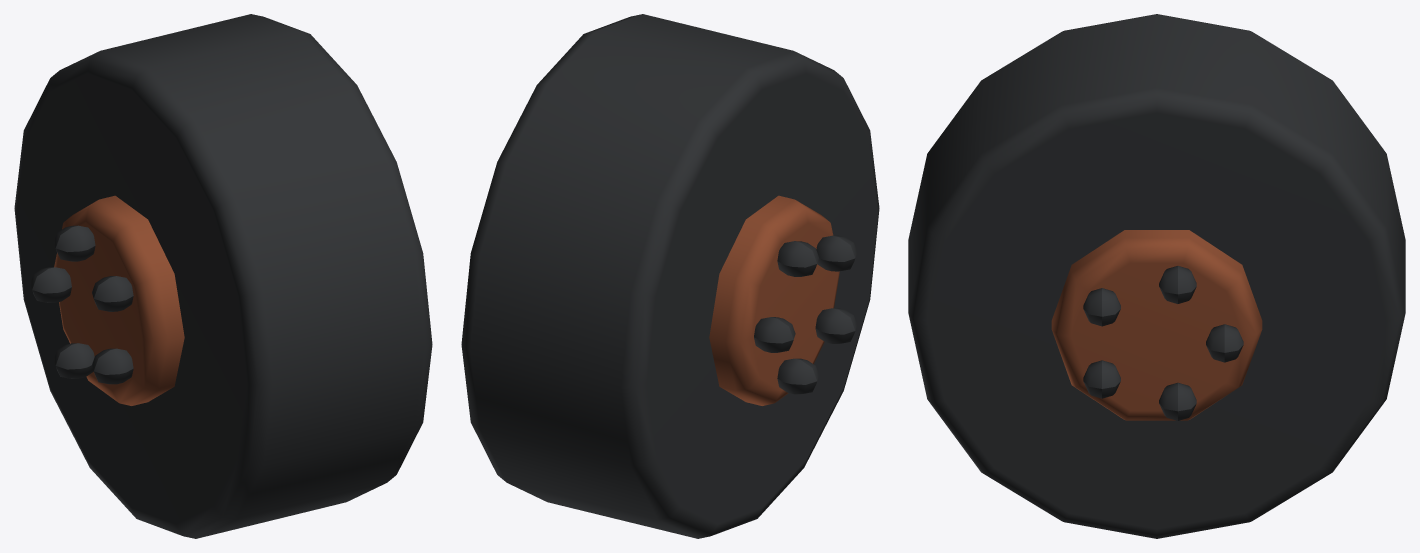
The model's file is wheel-axle.glb.
3 views of the same model, side by side, from view 1: azimuth 30°, elevation 25°; view 2: azimuth 150°, elevation 25°; view 3: azimuth 270°, elevation 25° (orthographic).
Parts seen in each view (by area): view 1: wheel-axle; view 2: wheel-axle; view 3: wheel-axle.
Boxes of the visible parts, x1=… form: wheel-axle: x1=14, y1=14, x2=432, y2=538; wheel-axle: x1=461, y1=14, x2=879, y2=538; wheel-axle: x1=908, y1=14, x2=1405, y2=538.
Bounding box in the file's own units: 0.48 × 0.66 × 0.66.
